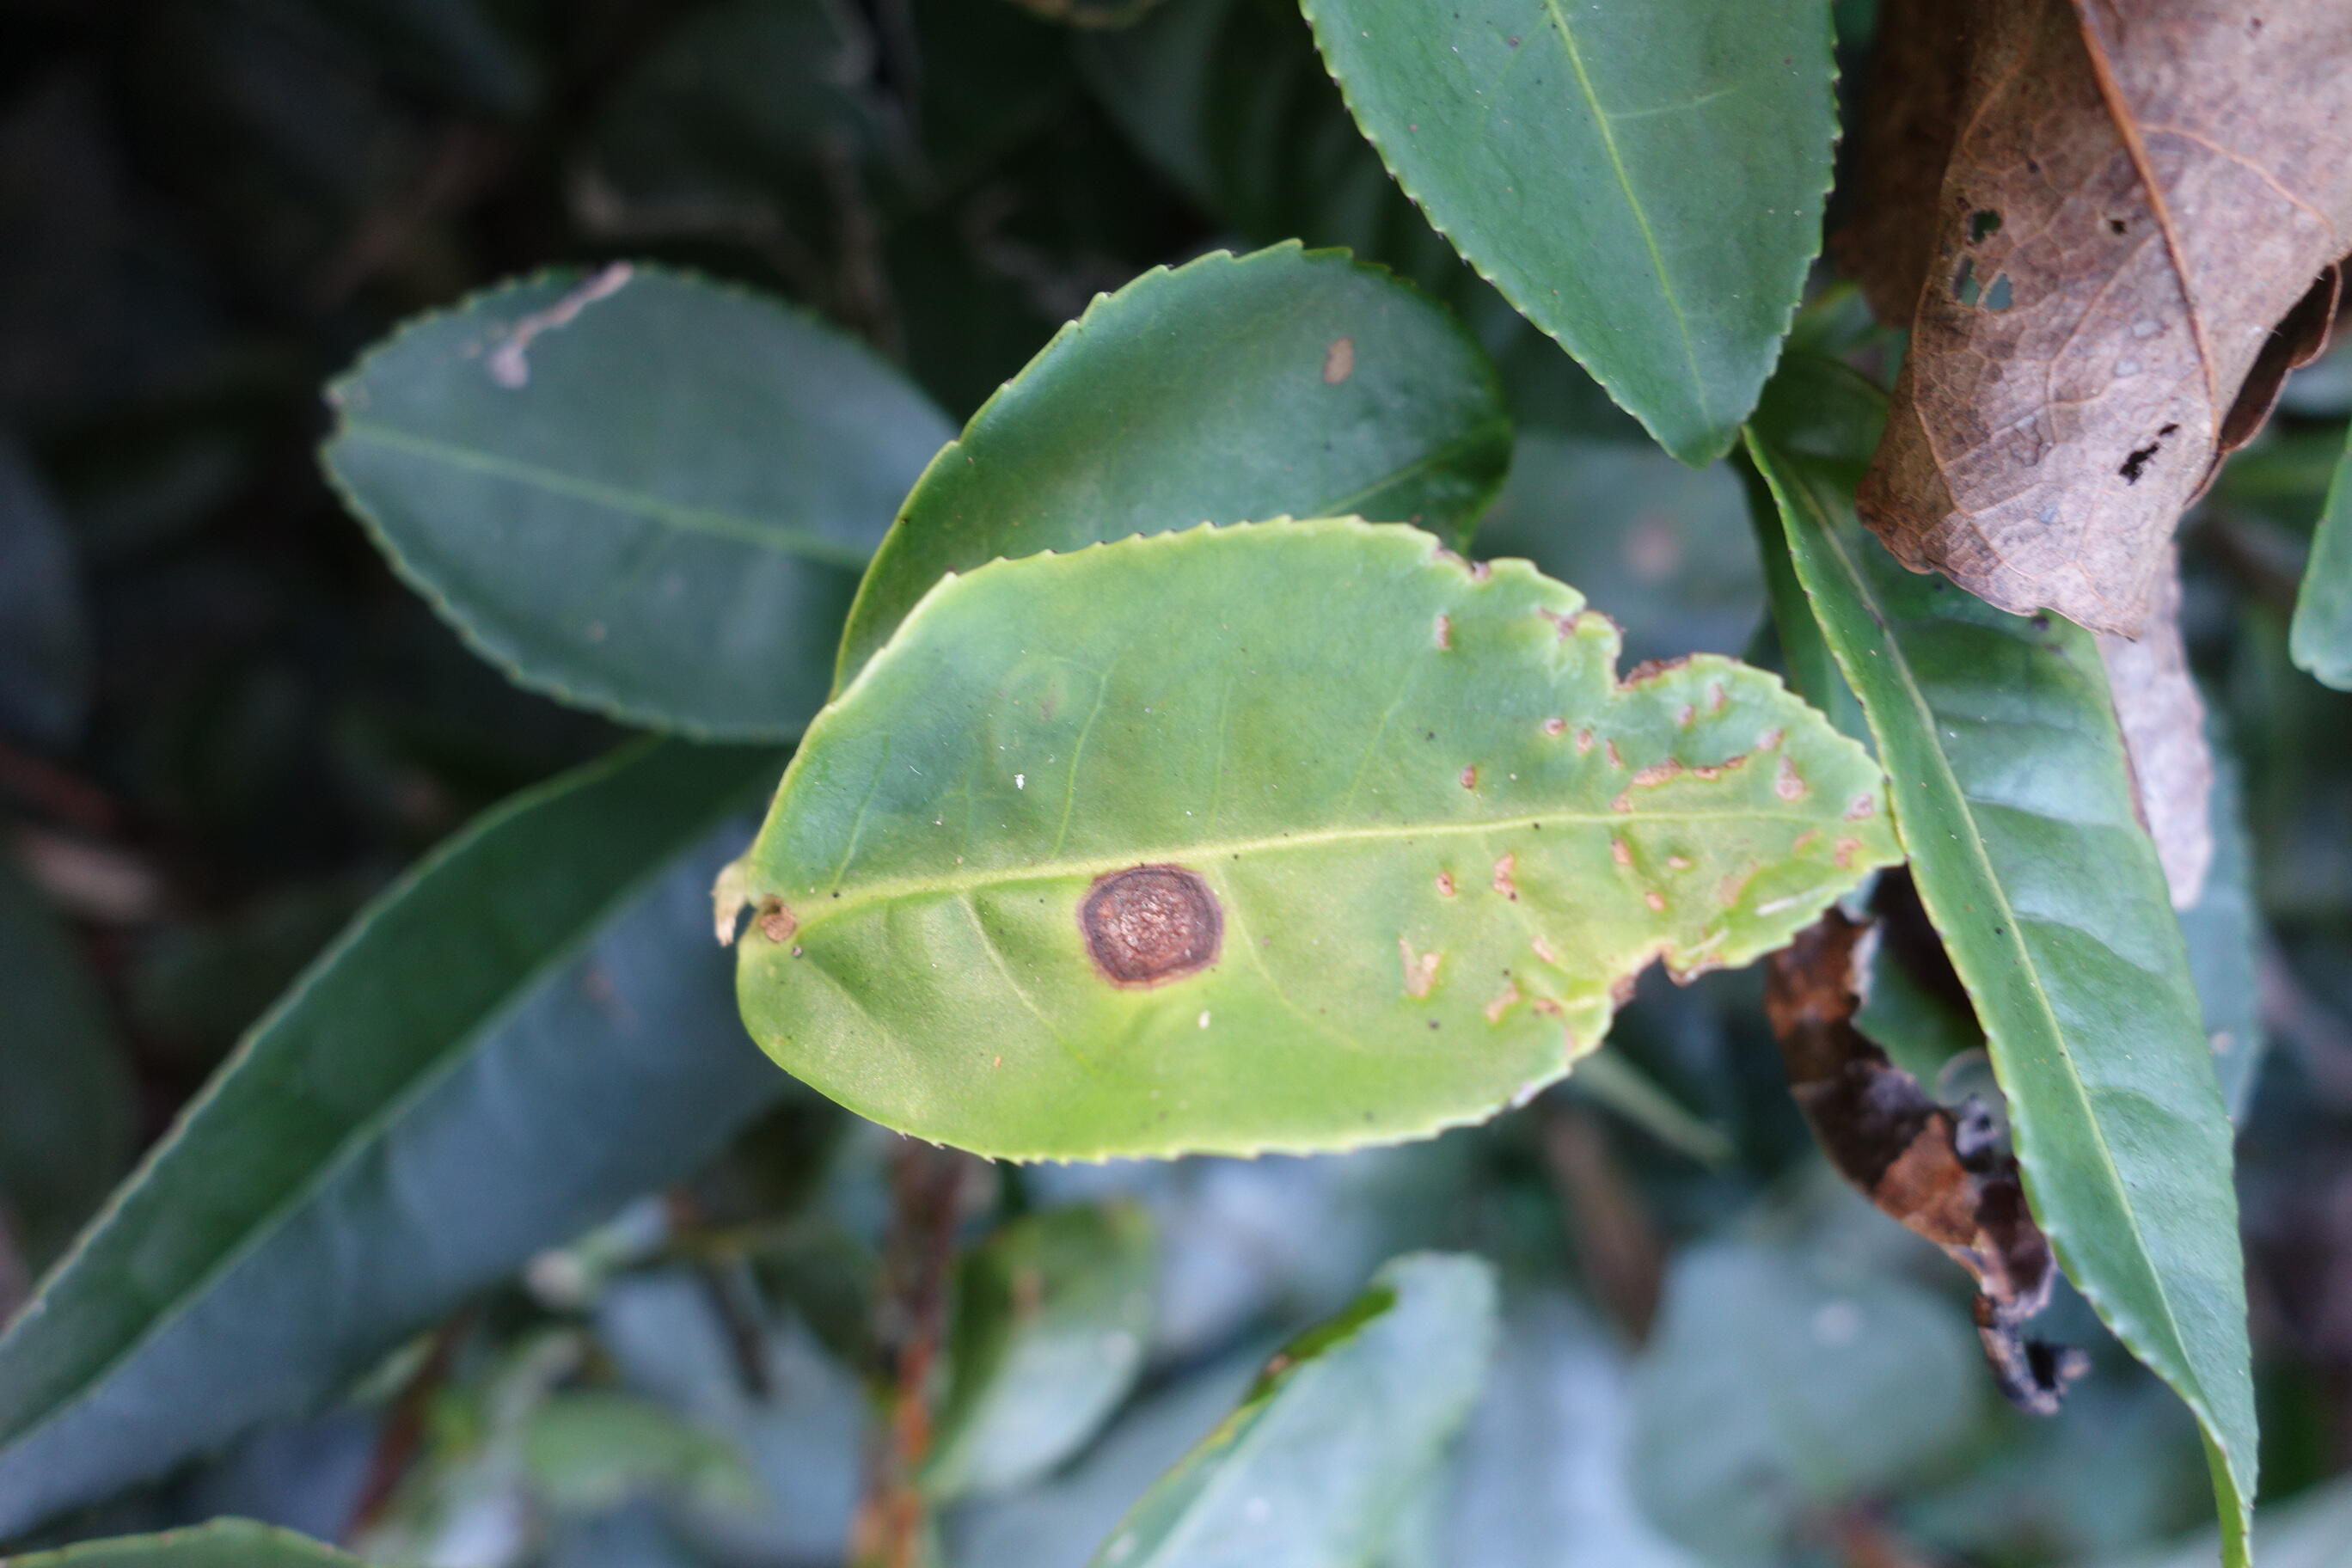tanju_high: (735, 514, 1911, 1176)
tanju_low: (310, 262, 868, 737)
